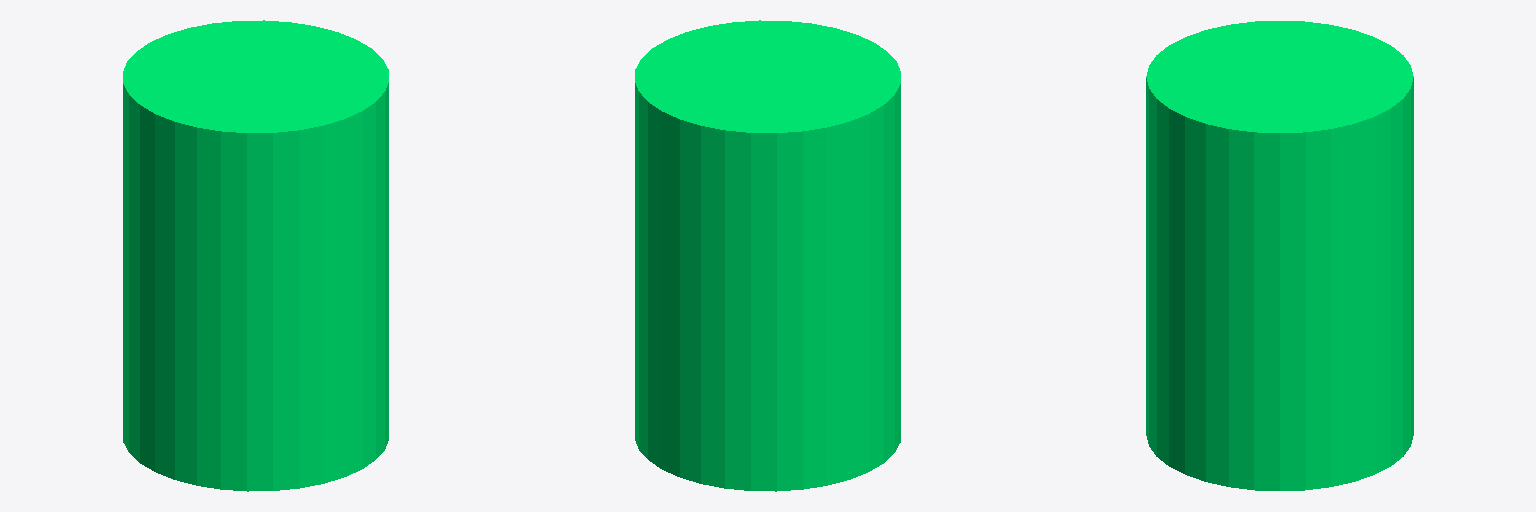
robot.urdf — myfirst:
<?xml version="1.0"?>
 <robot name="myfirst">
   <material name="green">
     <color rgba="0 1 0.498 1"/>
   </material>
   <link name="right_leg">
     <visual>
       <geometry>
         <cylinder length="10.00" radius="3.3829689025878906"/>
       </geometry>
       <material name="green"/>
     </visual>
     <collision>
       <geometry>
         <cylinder length="10.00" radius="3.3829689025878906"/>
       </geometry>
     </collision>
     <inertial>
       <mass value="1"/>
       <inertia ixx="1.0" ixy="0.0" ixz="0.0" iyy="1.0" iyz="0.0" izz="1.0"/>
     </inertial>
   </link>
 </robot>

--- Render facts (derived) ---
Views: 3 orthographic renders of the robot side by side, from view 1: azimuth 30°, elevation 25°; view 2: azimuth 150°, elevation 25°; view 3: azimuth 270°, elevation 25°.
Model myfirst with 1 links and 0 joints (none), rooted at right_leg, posed every joint at zero.
Links seen in each view (by area): view 1: right_leg; view 2: right_leg; view 3: right_leg.
Boxes of the visible links, box(x1,y1,x2,y2) form: right_leg: box(123, 20, 388, 491); right_leg: box(635, 20, 900, 491); right_leg: box(1146, 21, 1413, 490).
Bounding box of the posed robot: 6.77 × 6.77 × 10 m (x, y, z).
Geometry: primitives only (box / cylinder / sphere), no mesh files.